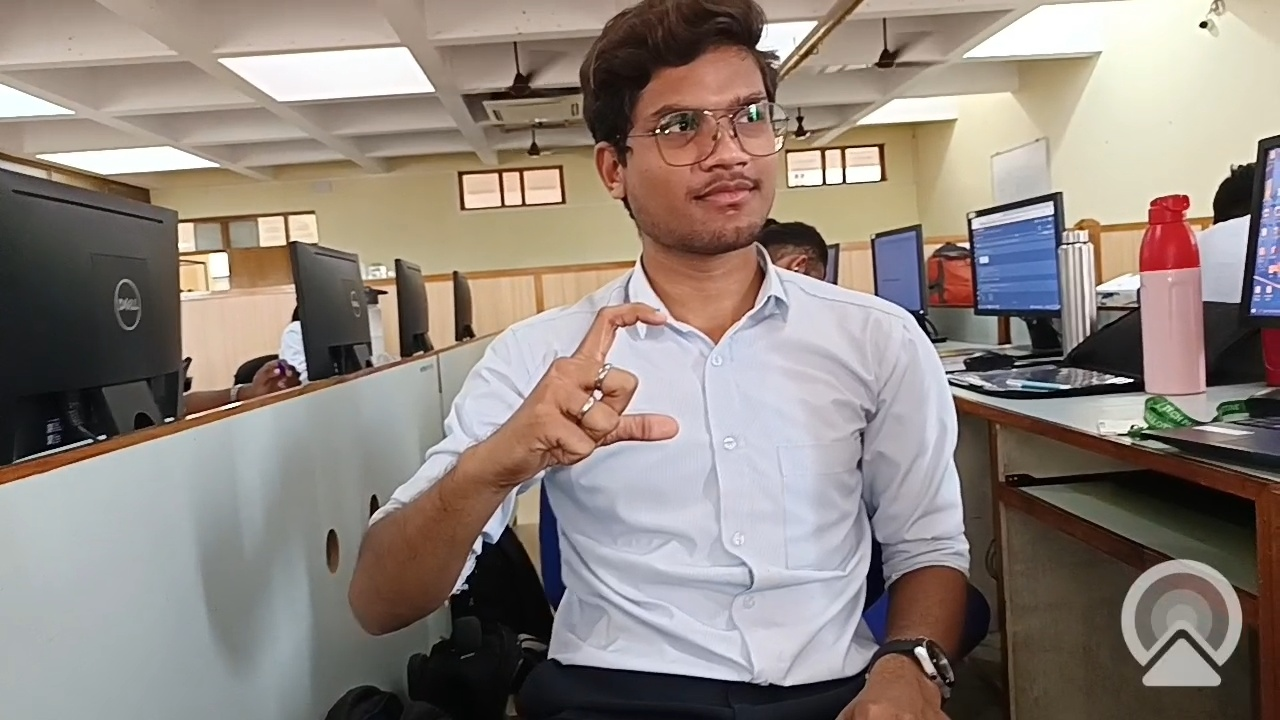C: (477, 292, 728, 504)
